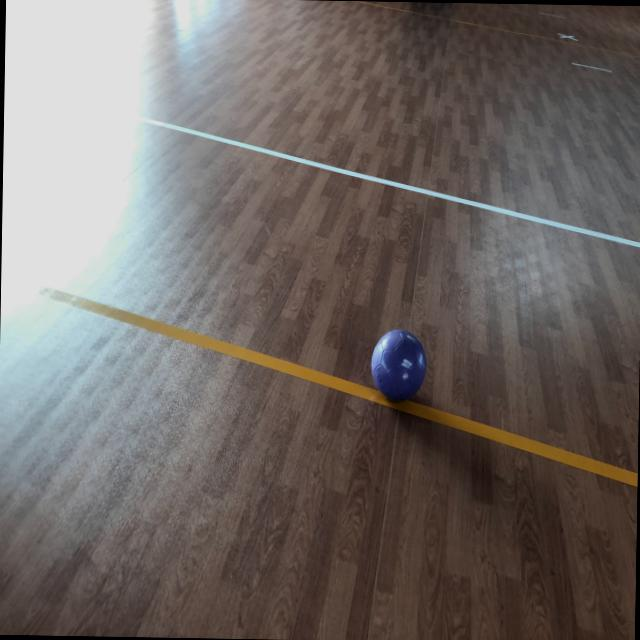purple_ball: (370, 329, 426, 404)
